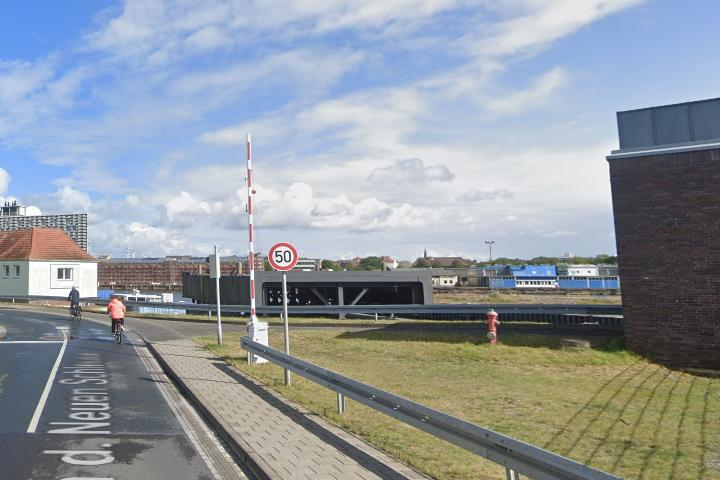traffic_sign: (267, 241, 298, 272)
